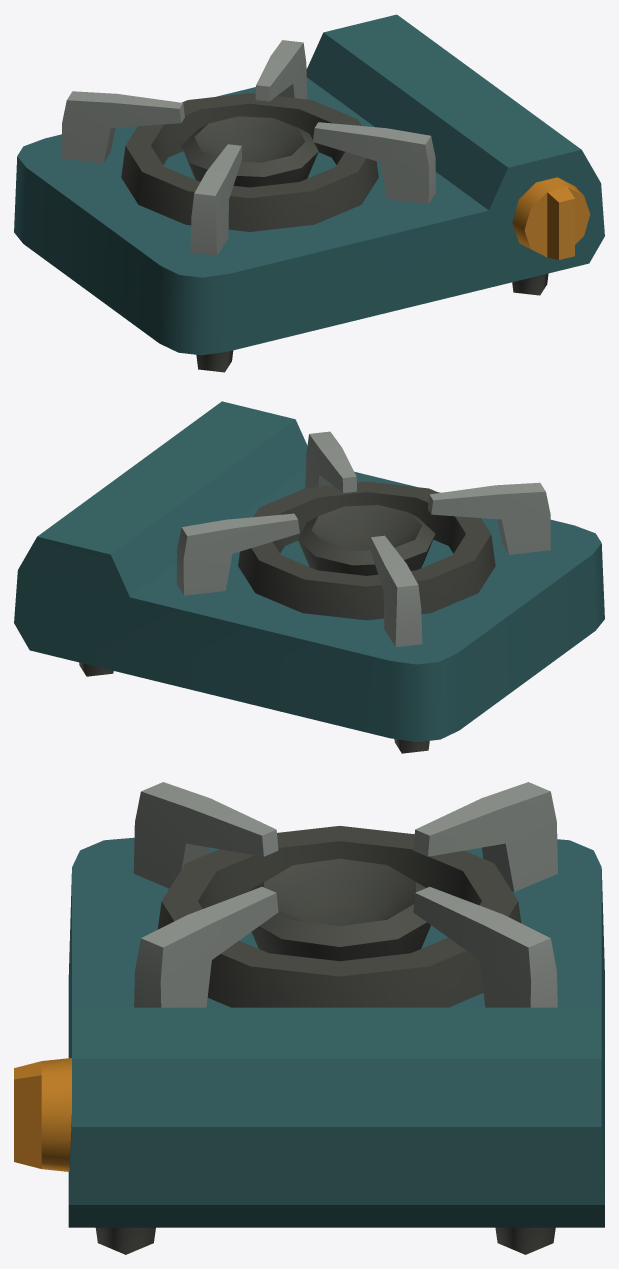
File: SM_CampingStove.fbx
3 views of the same model, one above another, from view 1: azimuth 30°, elevation 25°; view 2: azimuth 150°, elevation 25°; view 3: azimuth 270°, elevation 25° (orthographic). The views are drawn at different scales.
Visible parts, largest first — view 1: SM_CampingStove; view 2: SM_CampingStove; view 3: SM_CampingStove.
Part boxes in pixels (x1,y1,x2,y2): SM_CampingStove: (14, 14, 604, 372); SM_CampingStove: (14, 401, 604, 753); SM_CampingStove: (14, 782, 604, 1254).
Bounding box in the file's own units: 39.06 × 14.81 × 33.21.
